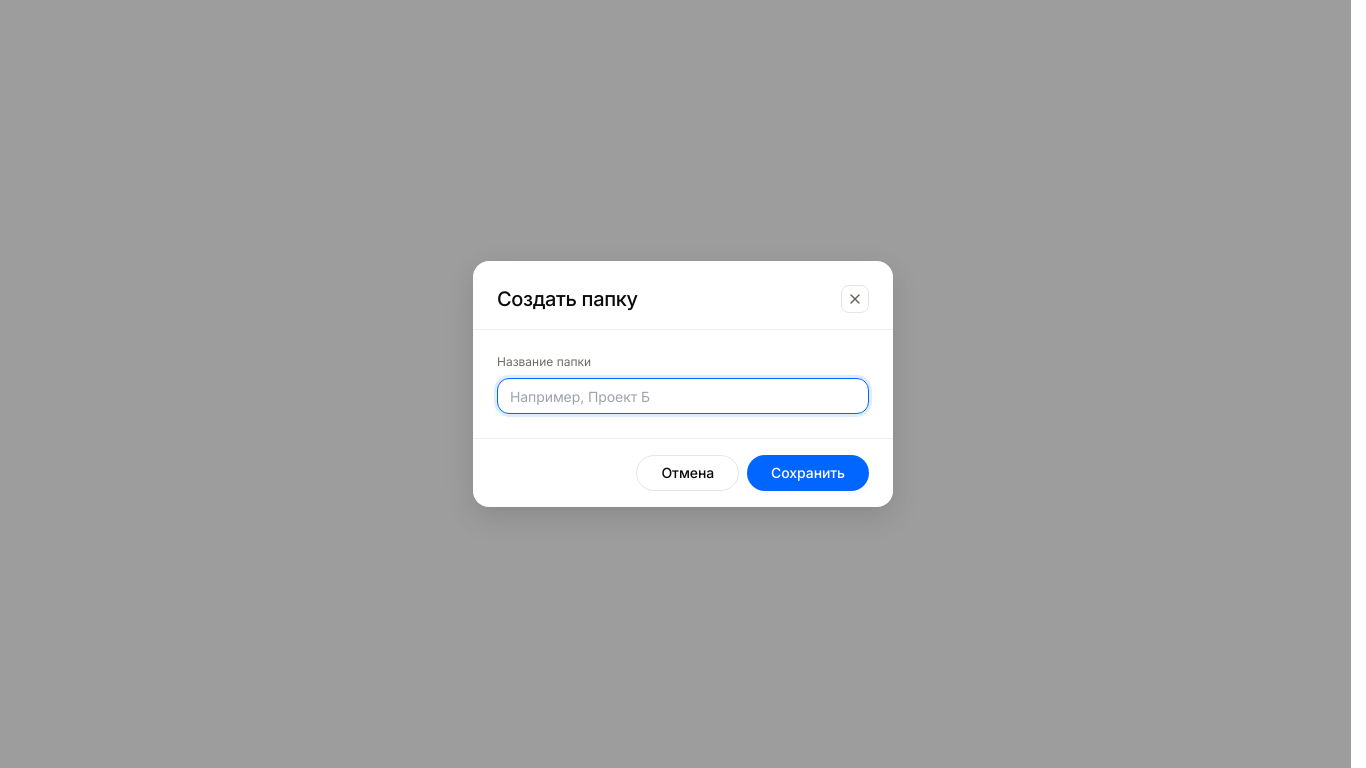
Test case: a name the server refuses as taken stays in the dialog with the inline message
Type "Занято" into the field with placeholder "Например, Проект Б" at [683, 396], box [497, 378, 869, 414]
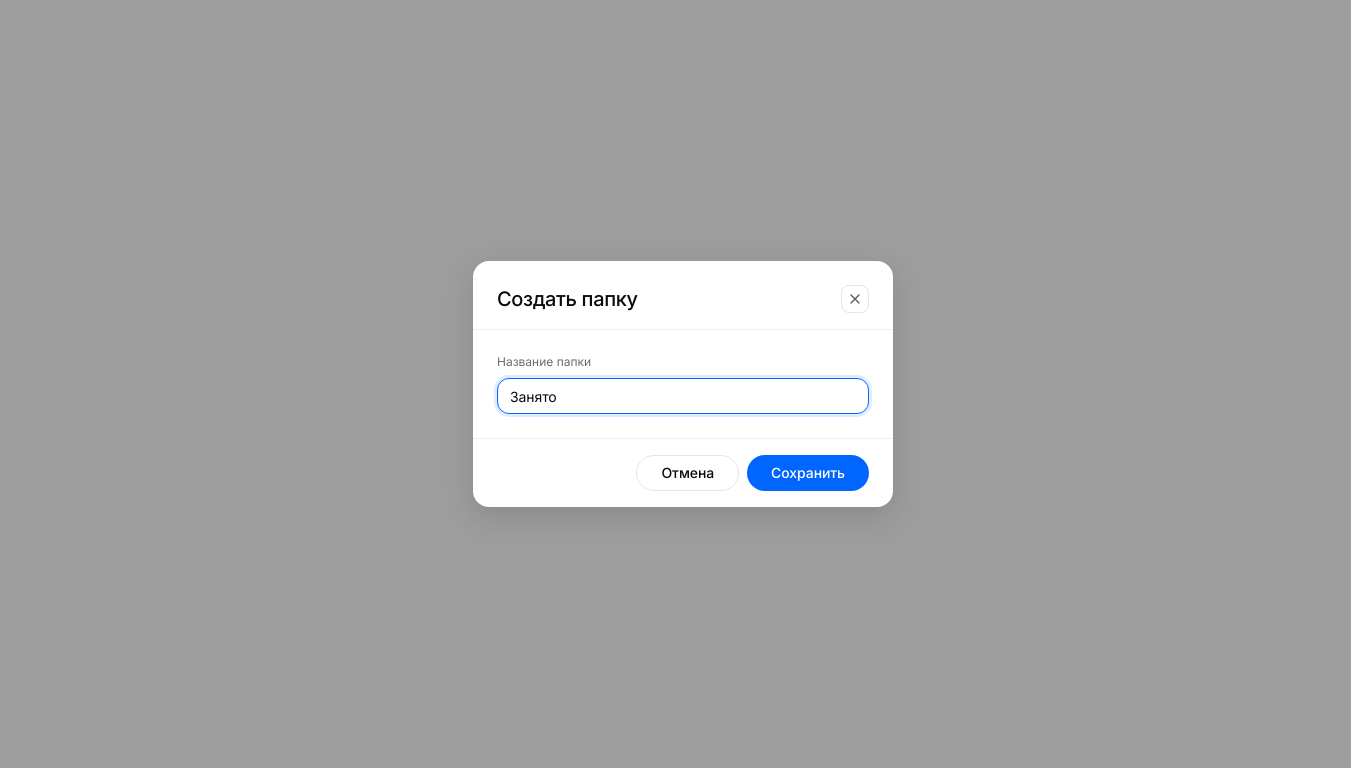
Click the button "Сохранить" at [808, 473], box [747, 455, 869, 491]
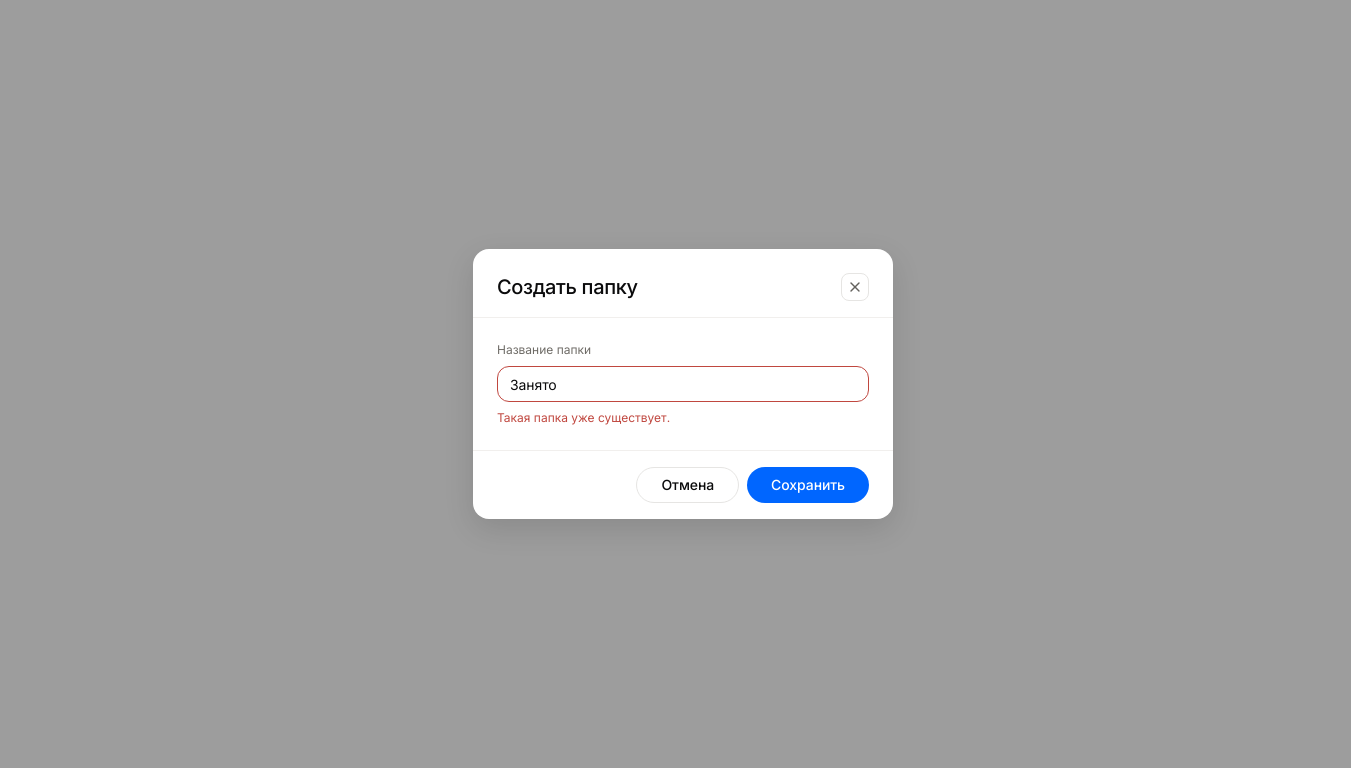
Check: the dialog is shown, box [473, 249, 893, 519]
Check: the message reads "Такая папка уже существует.", box [497, 410, 670, 425]
